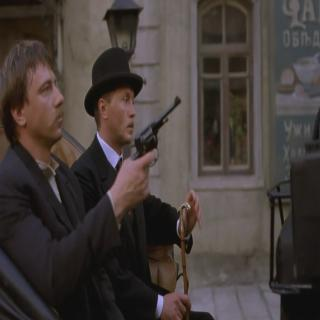gun: (127, 94, 181, 208)
